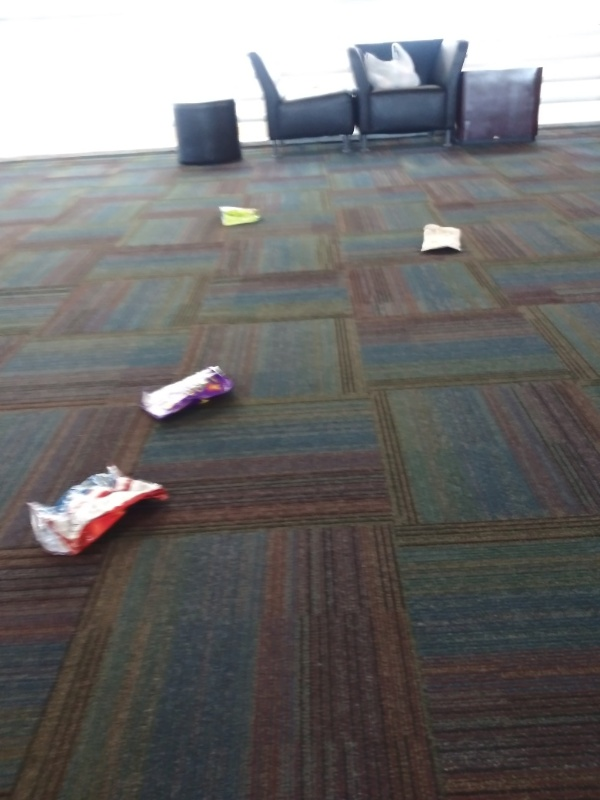bag: (23, 461, 174, 560), (136, 363, 238, 422), (418, 222, 465, 255), (214, 201, 265, 228)
